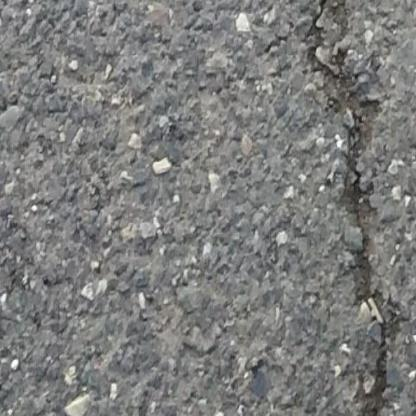Cracks: (304, 0, 393, 416)
